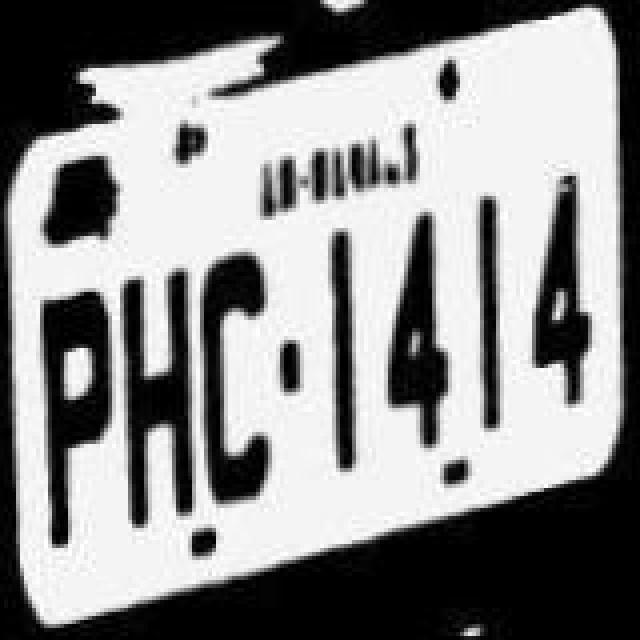1: (316, 224, 368, 492), (462, 176, 510, 448)
4: (522, 162, 602, 446), (382, 200, 462, 456)
C: (198, 238, 286, 506)
H: (116, 252, 196, 528)
P: (30, 272, 114, 552)
